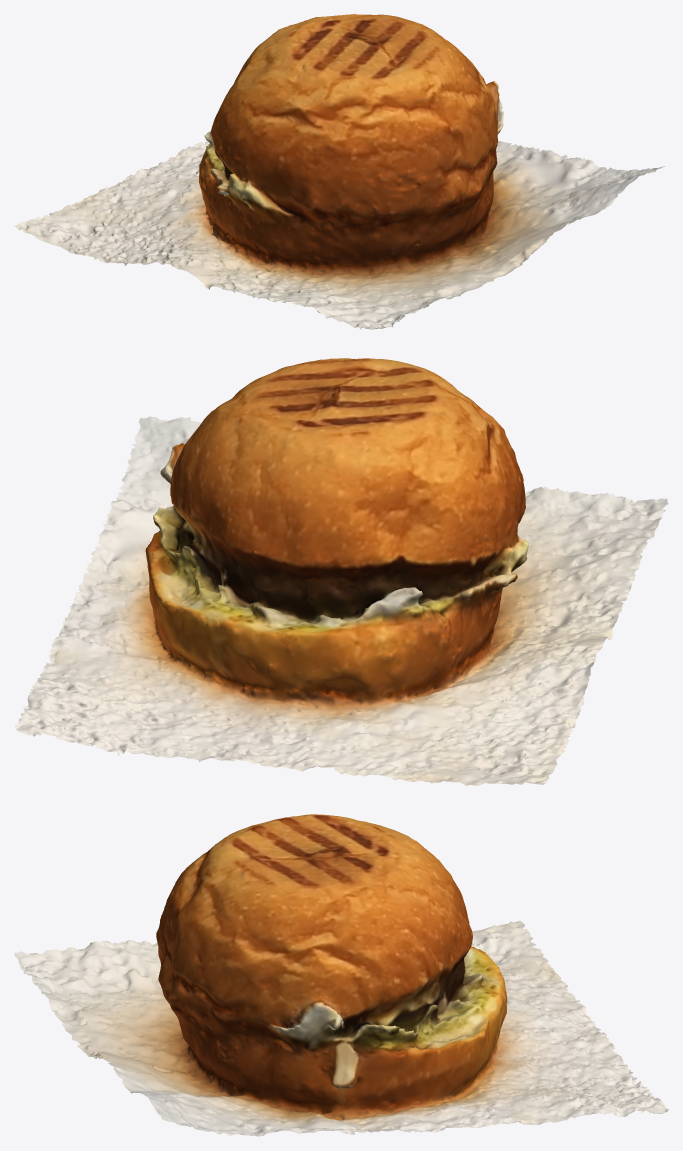
File: Hamburguesa.gltf
3 views of the same model, one above another, from view 1: azimuth 30°, elevation 25°; view 2: azimuth 150°, elevation 25°; view 3: azimuth 270°, elevation 25° (orthographic). The views are drawn at different scales.
Parts seen in each view (by area): view 1: Mesh_0_Part_0; view 2: Mesh_0_Part_0; view 3: Mesh_0_Part_0.
Part boxes in pixels (<box>): Mesh_0_Part_0: <box>14,14,664,329</box>; Mesh_0_Part_0: <box>15,358,668,785</box>; Mesh_0_Part_0: <box>14,814,668,1136</box>.
Size of the model in its own units: 0.2345 by 0.0918 by 0.2451.
1 material, 1 textured.
